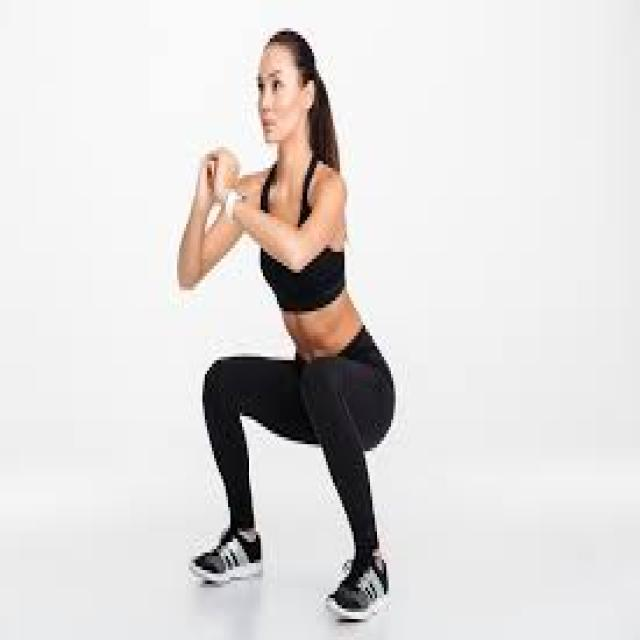squat: (174, 26, 398, 624)
